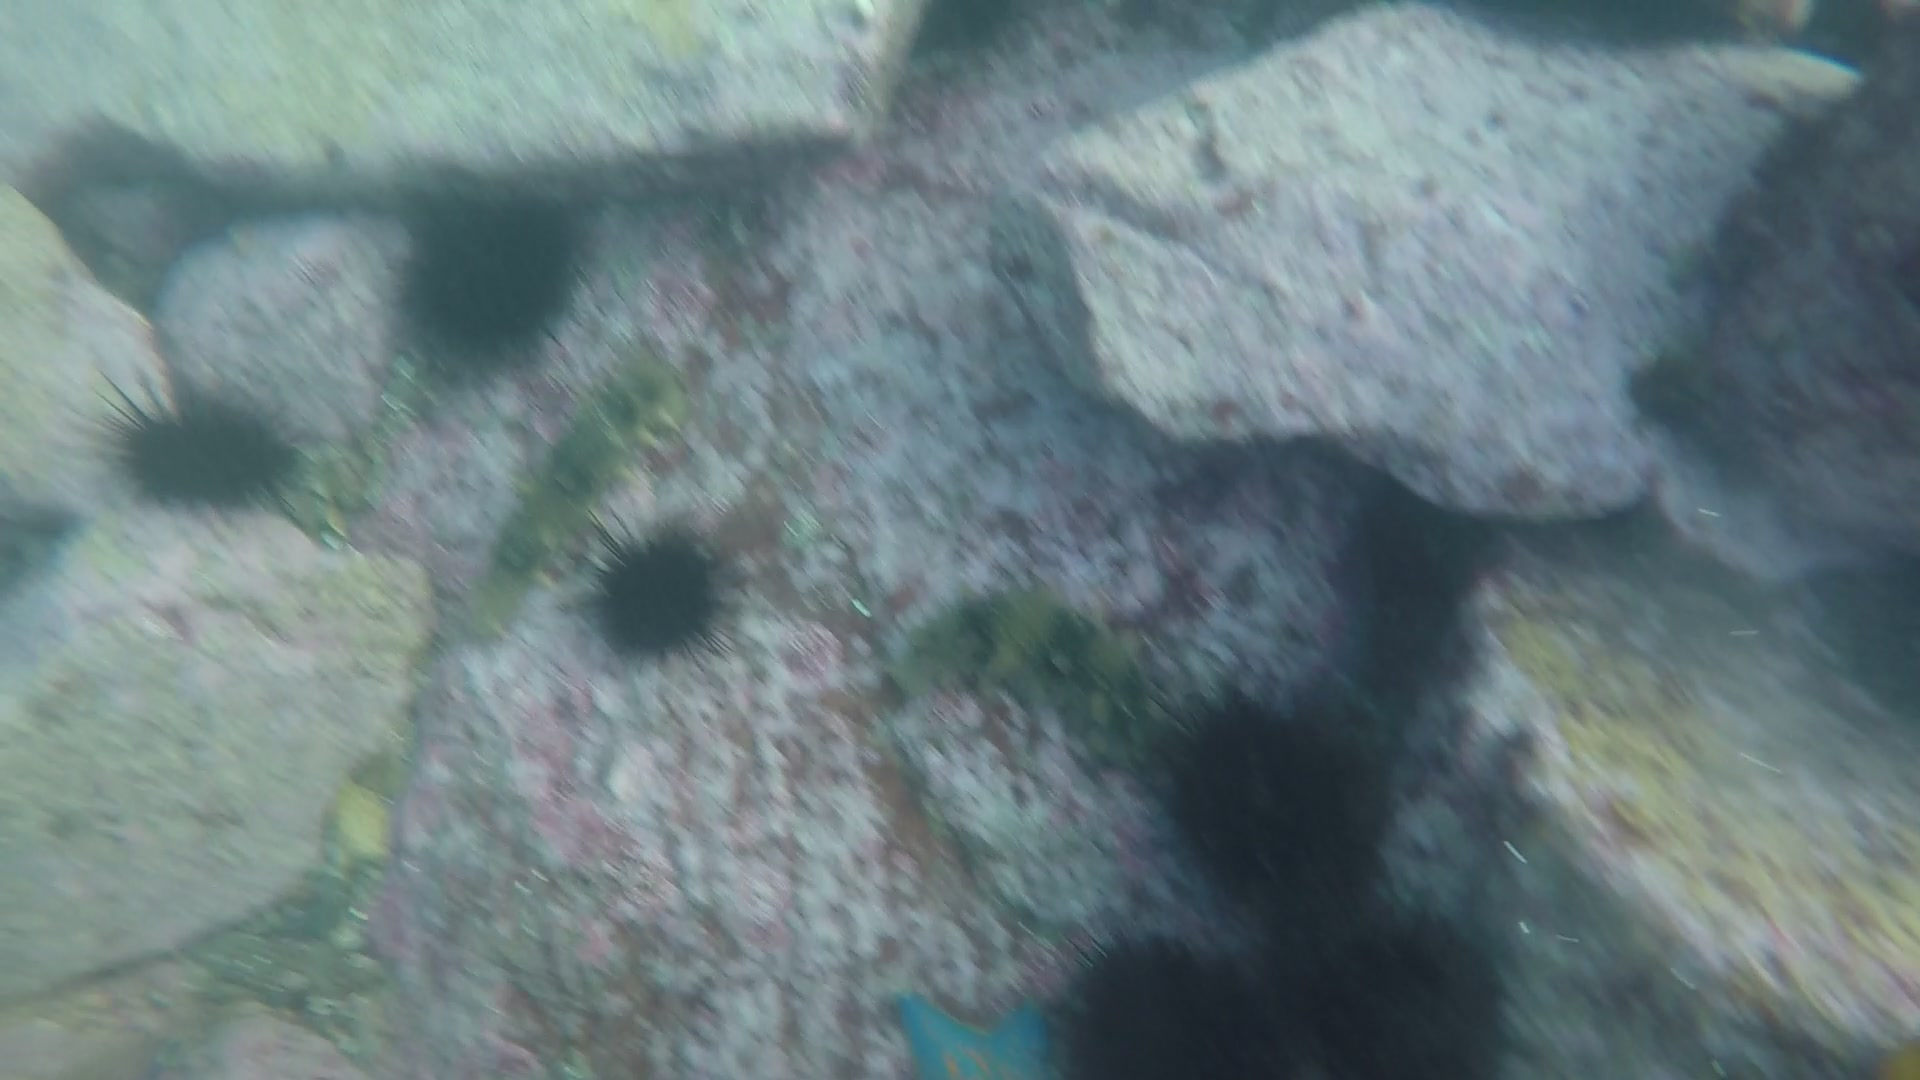echinus: (1158, 691, 1365, 889), (393, 178, 589, 378), (1276, 918, 1511, 1080), (1047, 936, 1265, 1080), (94, 371, 297, 521), (568, 516, 729, 665), (899, 1, 1030, 62)
holothurian: (465, 363, 680, 644), (868, 582, 1179, 774), (306, 382, 425, 542)
starfish: (882, 992, 1065, 1080)
